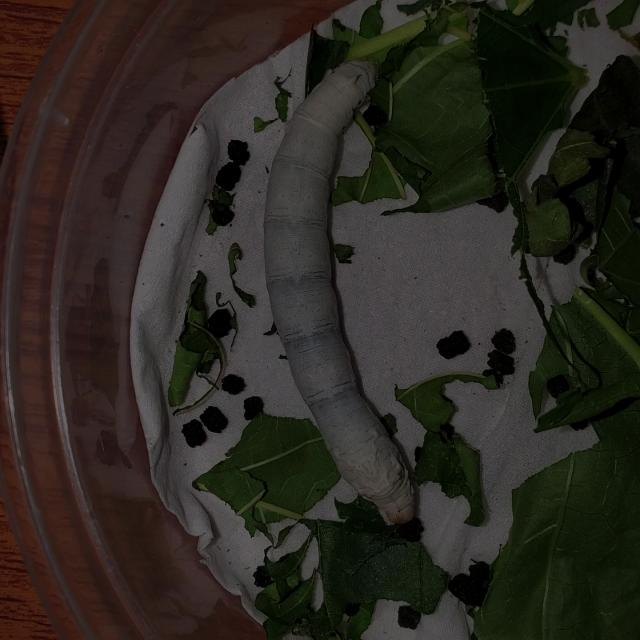Healthy: (244, 36, 518, 548)
